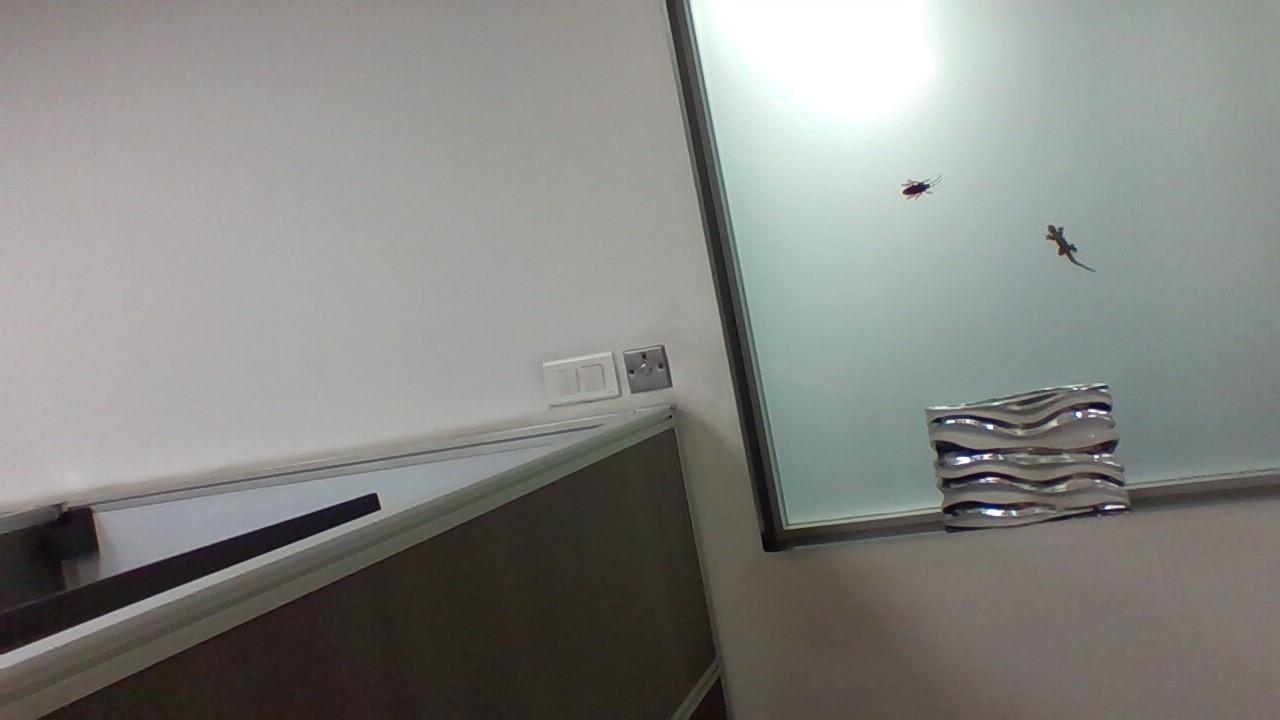cockroach: (883, 169, 950, 201)
lizard: (1039, 206, 1107, 282)
